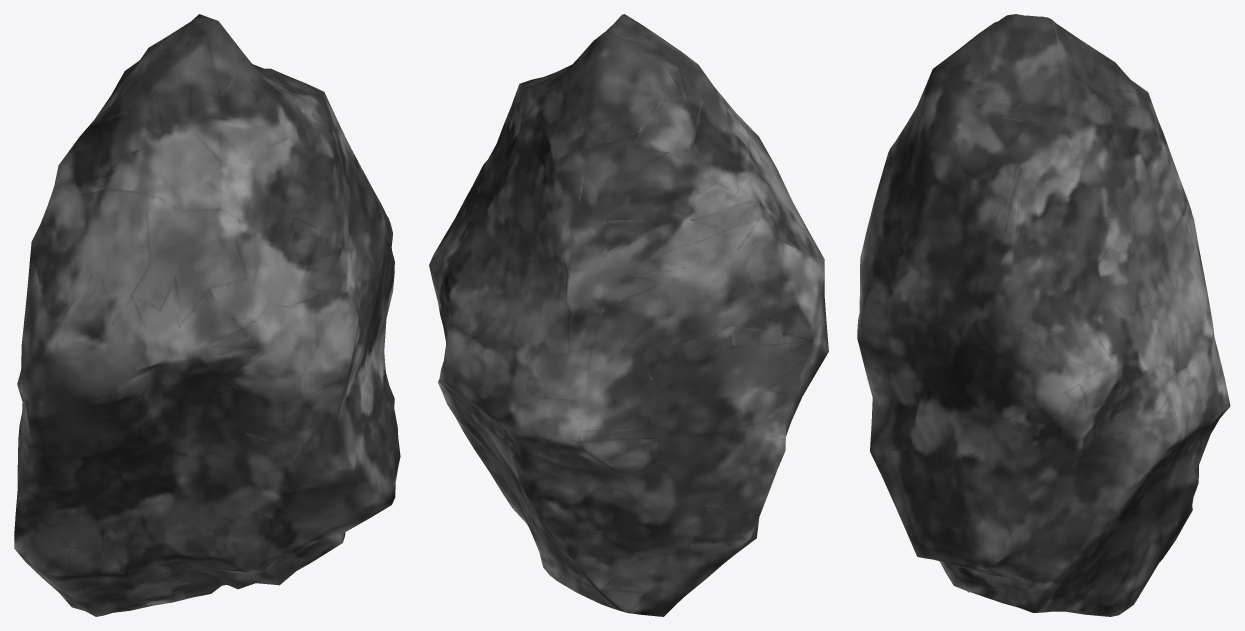
Rendered from item-10.gltf.
The picture shows the model from 3 angles, left to right: view 1: azimuth 30°, elevation 25°; view 2: azimuth 150°, elevation 25°; view 3: azimuth 270°, elevation 25°; orthographic projection. The views are drawn at different scales.
Parts seen in each view (by area): view 1: ore_shared_10_silver_9_sulfuric__exp; view 2: ore_shared_10_silver_9_sulfuric__exp; view 3: ore_shared_10_silver_9_sulfuric__exp.
Part boxes in pixels (x1,y1,x2,y2): ore_shared_10_silver_9_sulfuric__exp: [14, 14, 400, 616]; ore_shared_10_silver_9_sulfuric__exp: [429, 14, 828, 616]; ore_shared_10_silver_9_sulfuric__exp: [857, 14, 1230, 616].
Bounding box in the file's own units: 0.5969 × 0.8785 × 0.4866.
Materials: 1 (1 with a texture image).
